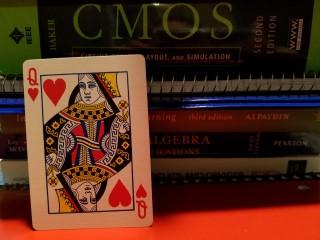QueenOfHearts: (23, 53, 156, 231)
